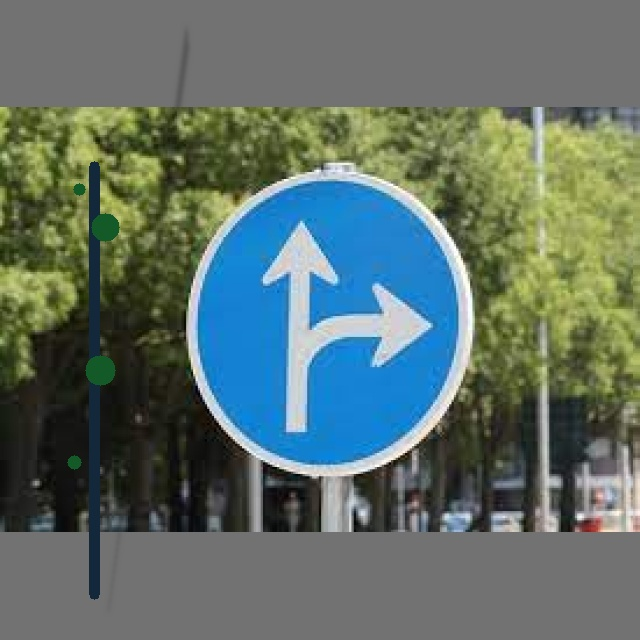Compulsory_Ahead_or_Turn_Right: (187, 174, 475, 479)
